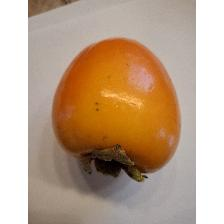Kaki: (41, 32, 185, 186)
